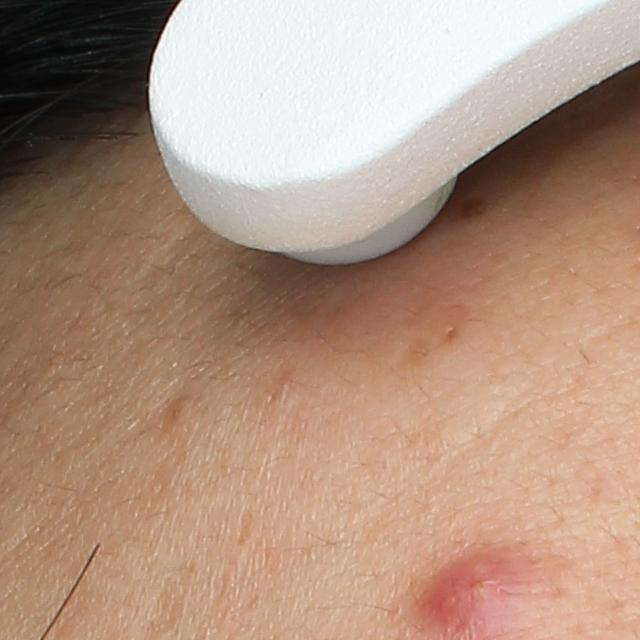papule: (413, 541, 541, 637)
